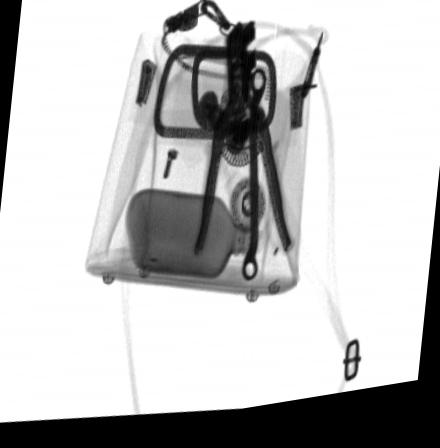Pliers: (190, 29, 291, 267)
Wrench: (240, 75, 265, 292)
